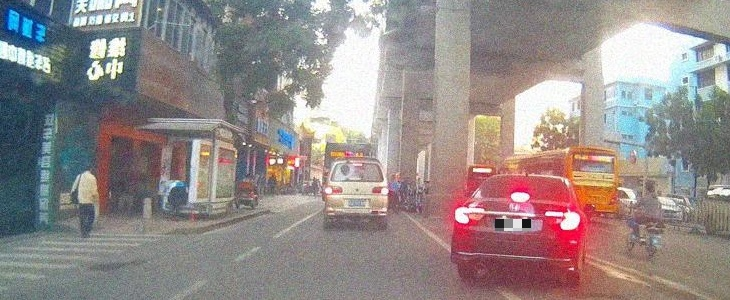L_light: (455, 206, 484, 225), (325, 185, 343, 195)
R_light: (544, 211, 580, 231), (371, 186, 388, 194)
T_light: (511, 192, 530, 202), (353, 164, 362, 167)
day-brake: (324, 156, 389, 230)
day-right: (450, 173, 581, 288)
plate_1: (495, 219, 532, 231)
